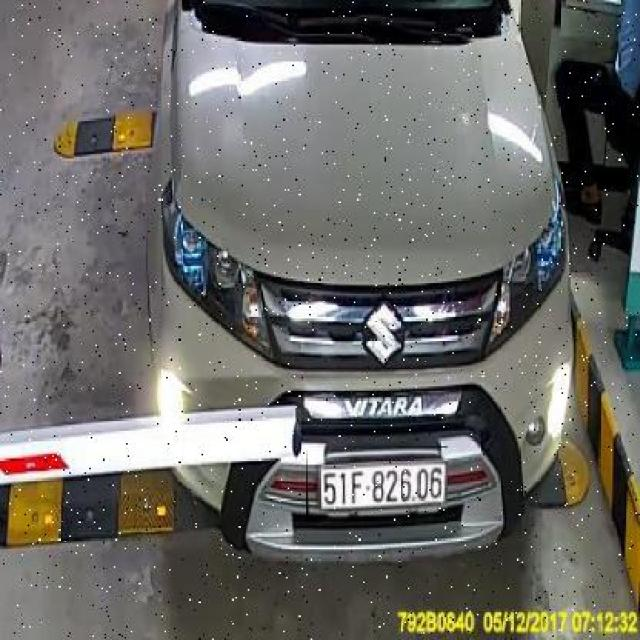number_plate: (306, 445, 448, 524)
